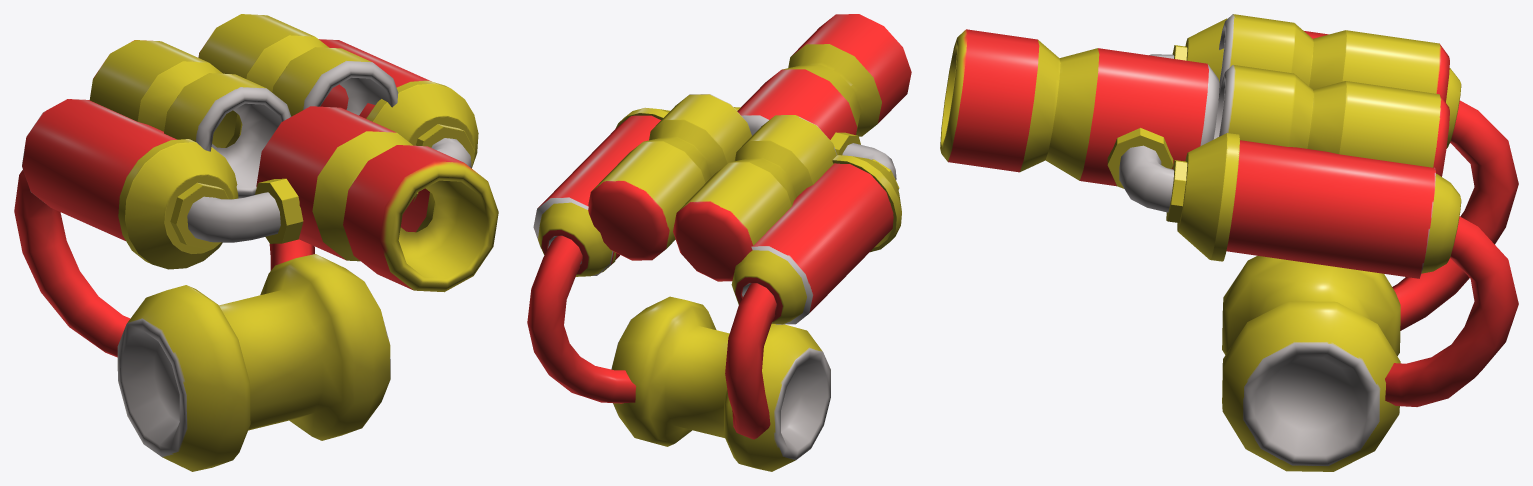
File: voicuuhoa1.fbx
3 renders of one model, left to right at view 1: azimuth 30°, elevation 25°; view 2: azimuth 150°, elevation 25°; view 3: azimuth 270°, elevation 25°, orthographic. The views are drawn at different scales.
Visible parts, largest first — view 1: voi_cuu_hoa; view 2: voi_cuu_hoa; view 3: voi_cuu_hoa.
Boxes of the visible parts, left/top/right/bottom form: voi_cuu_hoa: left=14, top=14, right=498, bottom=471; voi_cuu_hoa: left=527, top=14, right=911, bottom=471; voi_cuu_hoa: left=940, top=14, right=1518, bottom=471.
Size of the model in its own units: 4.03 by 4.49 by 5.83.
Materials: 1 (1 with a texture image).
